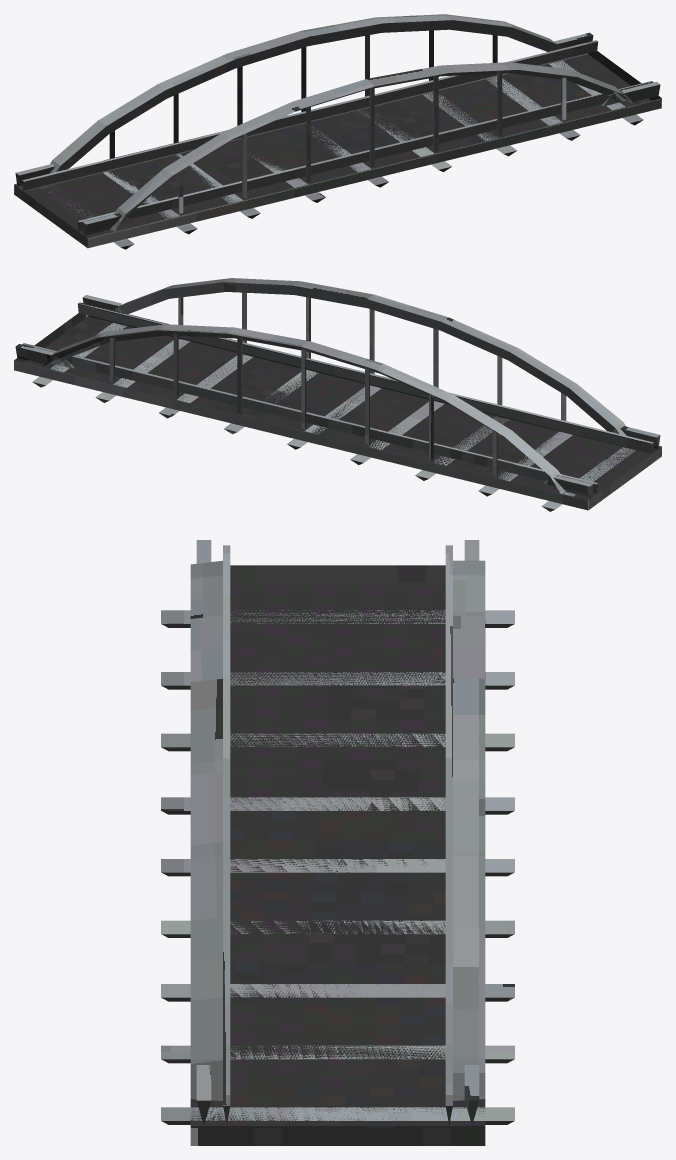
File: con_br06_lod.obj
3 renders of one model, top to bottom at view 1: azimuth 30°, elevation 25°; view 2: azimuth 150°, elevation 25°; view 3: azimuth 270°, elevation 25°, orthographic. The views are drawn at different scales.
Parts seen in each view (by area): view 1: con_br06_LOD; view 2: con_br06_LOD; view 3: con_br06_LOD.
Boxes of the visible parts, x1,y1,x2,y2 form: con_br06_LOD: [14, 14, 661, 249]; con_br06_LOD: [14, 278, 661, 511]; con_br06_LOD: [161, 540, 514, 1145].
Bounding box in the file's own units: 74.37 × 12.23 × 19.83.
1 material, 1 textured.
